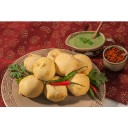bonda: (19, 75, 45, 96), (33, 58, 55, 81), (46, 80, 67, 101), (67, 74, 90, 93), (57, 54, 79, 73)
